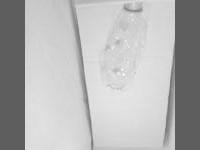bottle: (88, 0, 142, 97)
